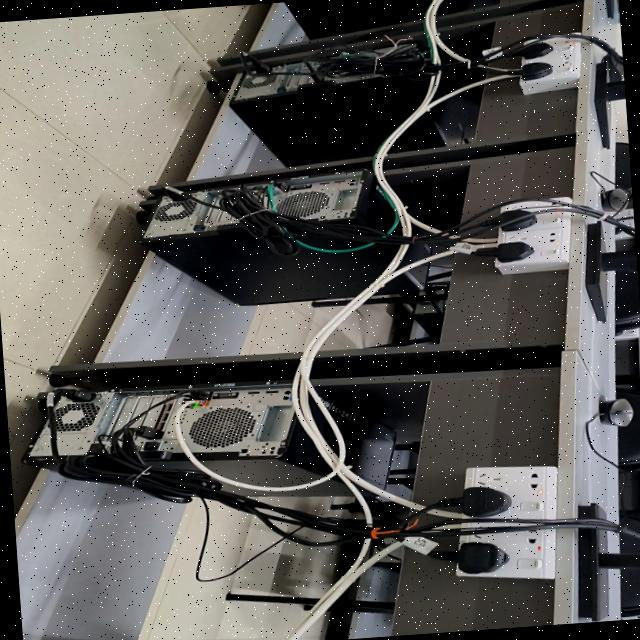Cpu: (140, 196, 396, 305), (228, 61, 426, 166), (177, 387, 349, 496), (24, 389, 171, 468), (250, 170, 394, 230), (316, 389, 393, 487), (125, 401, 195, 470), (391, 97, 464, 152), (375, 263, 439, 295)
Mouse: (598, 399, 632, 426), (600, 188, 626, 211)
